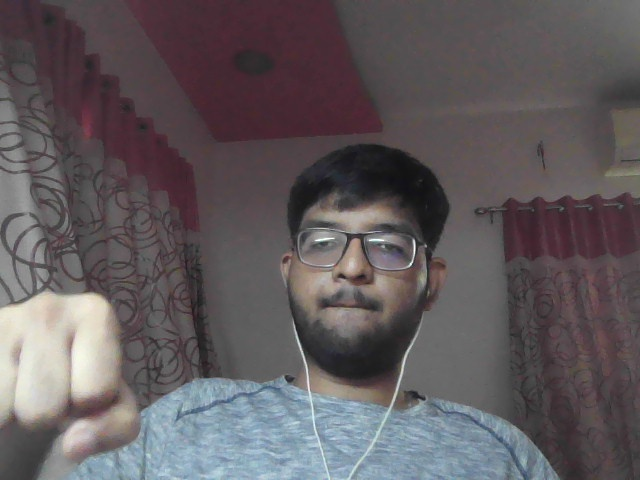હા: (1, 269, 148, 475)
